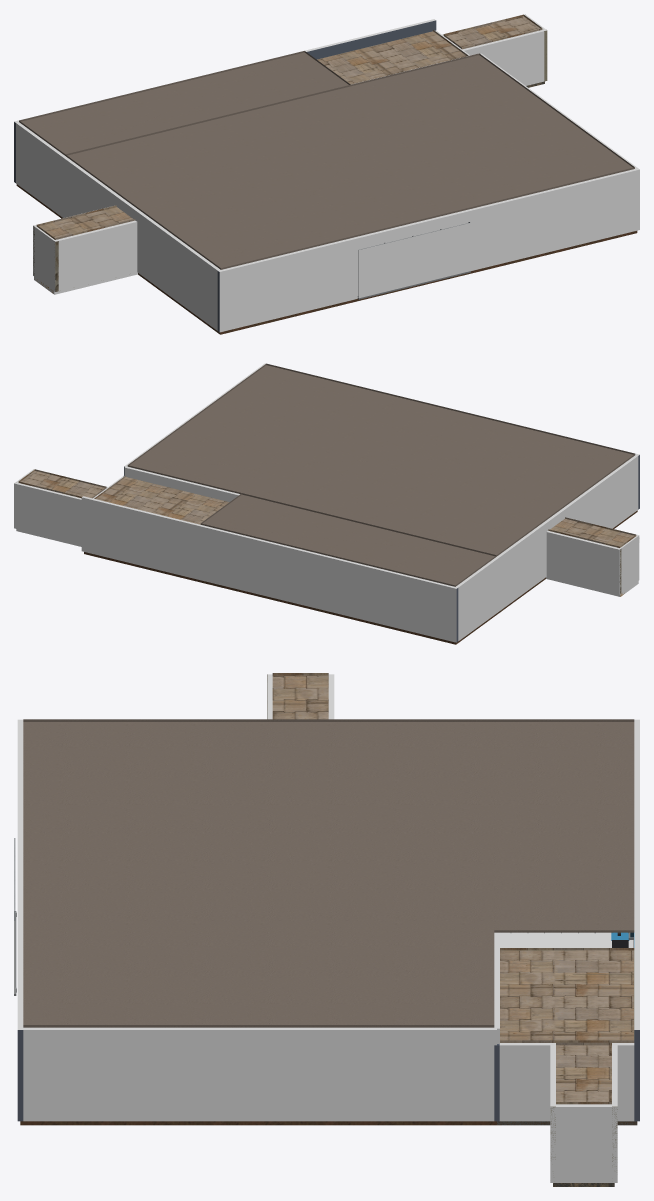
3 views of the same model, one above another, from view 1: azimuth 30°, elevation 25°; view 2: azimuth 150°, elevation 25°; view 3: azimuth 270°, elevation 25° (orthographic). The views are drawn at different scales.
Visible parts, largest first — view 1: S_ceiling, COL, S_concrete_panels, S_el_wall, S_concrete_smooth; view 2: S_ceiling, COL, S_concrete_panels, S_concrete_smooth; view 3: S_ceiling, COL, S_concrete_panels, S_concrete_smooth, S_el_wall.
Part boxes in pixels (x1,y1,x2,y2): S_ceiling: [19, 51, 634, 269]; COL: [14, 14, 639, 332]; S_concrete_panels: [36, 14, 542, 239]; S_el_wall: [14, 20, 469, 332]; S_concrete_smooth: [16, 184, 637, 334]; S_ceiling: [127, 363, 635, 586]; COL: [14, 363, 639, 642]; S_concrete_panels: [18, 469, 636, 547]; S_concrete_smooth: [84, 510, 637, 644]; S_ceiling: [23, 719, 634, 1027]; COL: [14, 674, 639, 1182]; S_concrete_panels: [272, 673, 634, 1104]; S_concrete_smooth: [20, 1121, 637, 1125]; S_el_wall: [17, 1030, 639, 1121].
Size of what is drawn, in the model's own units: 36.5 by 3.9 by 22.33.
Materials: 81 (45 with a texture image).
